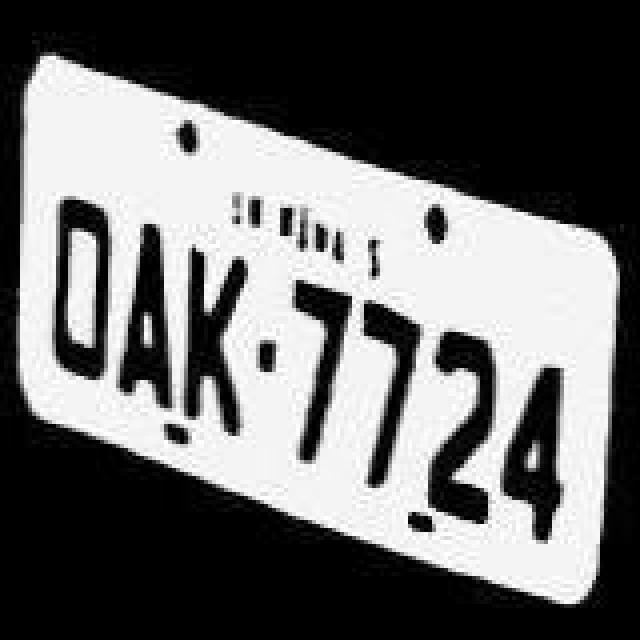2: (418, 324, 502, 532)
4: (494, 354, 566, 558)
7: (280, 272, 360, 464), (350, 296, 426, 496)
A: (106, 206, 182, 418)
K: (178, 224, 254, 432)
O: (32, 178, 120, 398)
